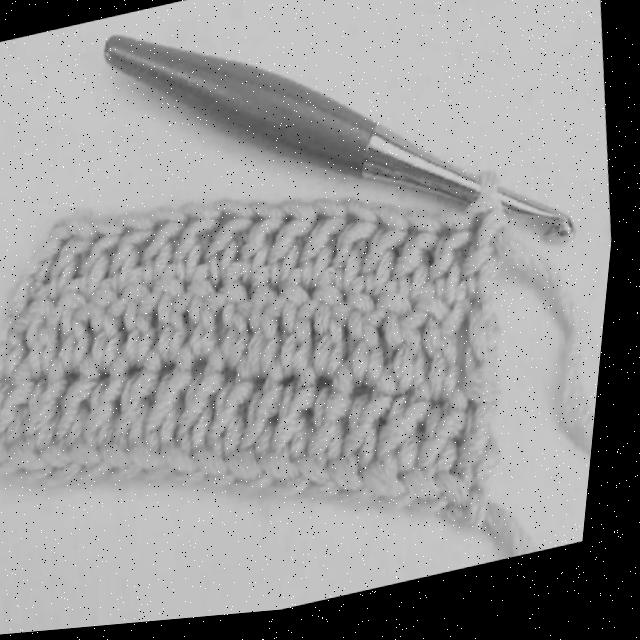ch: (443, 480, 496, 539), (368, 472, 432, 517), (334, 466, 393, 513), (265, 458, 322, 500), (411, 475, 460, 522), (232, 455, 288, 496), (11, 441, 62, 485), (300, 462, 353, 501), (475, 306, 506, 372), (134, 446, 186, 483), (165, 447, 217, 484), (46, 446, 91, 487), (471, 348, 506, 400), (201, 451, 247, 490), (79, 446, 123, 485), (108, 447, 155, 483), (0, 446, 29, 469)
dc: (384, 288, 442, 399), (383, 396, 443, 488), (117, 351, 170, 455), (151, 349, 201, 456), (466, 206, 514, 313), (304, 205, 358, 297), (426, 307, 477, 402), (186, 354, 233, 455), (336, 206, 384, 303), (313, 374, 360, 473), (399, 217, 446, 314), (432, 220, 481, 313), (468, 394, 512, 497), (91, 356, 138, 452), (429, 390, 475, 487), (218, 364, 263, 463), (317, 272, 356, 386), (352, 282, 391, 394), (211, 205, 261, 292), (365, 215, 415, 302), (31, 356, 74, 457), (64, 354, 108, 452), (248, 366, 292, 462), (272, 205, 319, 294), (349, 395, 398, 479), (286, 274, 324, 382), (255, 270, 290, 386), (280, 373, 324, 465), (55, 211, 100, 300), (91, 282, 134, 375), (219, 269, 256, 376), (192, 263, 229, 365), (0, 359, 41, 451), (147, 210, 193, 291), (114, 214, 160, 294), (85, 218, 128, 302), (243, 210, 289, 288), (179, 208, 221, 290), (130, 269, 163, 373), (30, 284, 66, 379), (66, 279, 99, 379), (163, 267, 195, 368)
